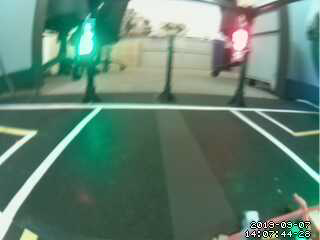Left_Right_sign: (159, 19, 190, 39)
Traffic_light_green: (78, 19, 97, 57)
Traffic_light_red: (226, 25, 252, 64)
